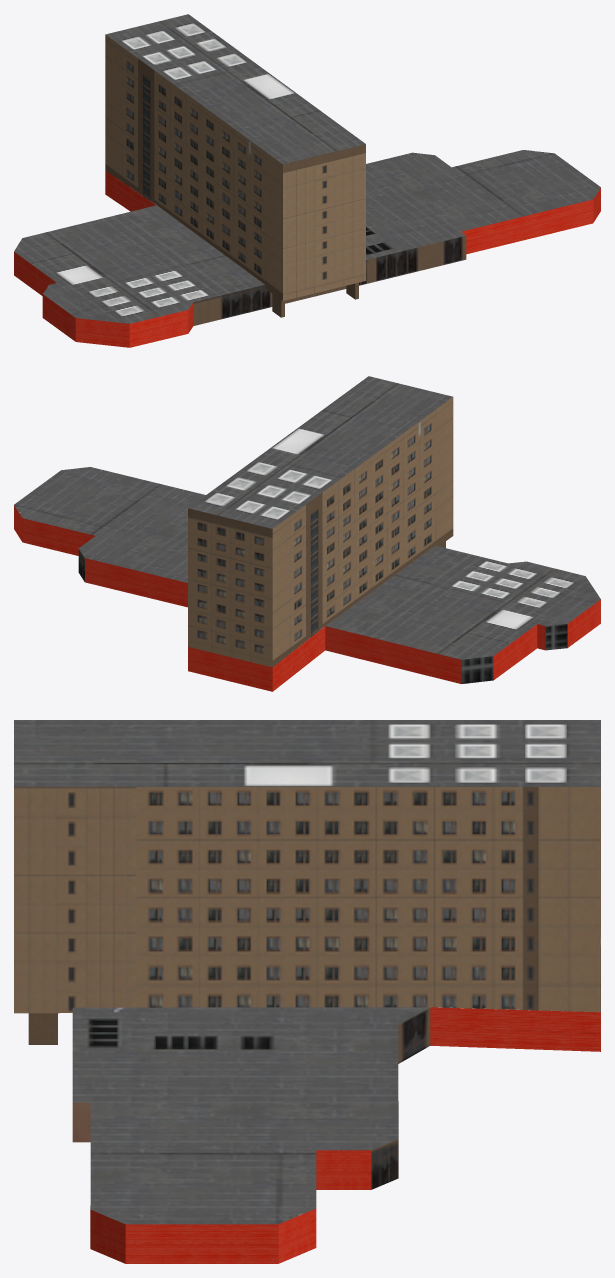
Rendered from building  27.fbx.
3 views of the same model, one above another, from view 1: azimuth 30°, elevation 25°; view 2: azimuth 150°, elevation 25°; view 3: azimuth 270°, elevation 25° (orthographic). The views are drawn at different scales.
Parts seen in each view (by area): view 1: Object_2.001; view 2: Object_2.001; view 3: Object_2.001.
Boxes of the visible parts, left/top/right/bottom form: Object_2.001: left=14, top=14, right=600, bottom=347; Object_2.001: left=14, top=376, right=600, bottom=691; Object_2.001: left=14, top=720, right=600, bottom=1263.
Size of the model in its own units: 9840 by 2851 by 5730.
